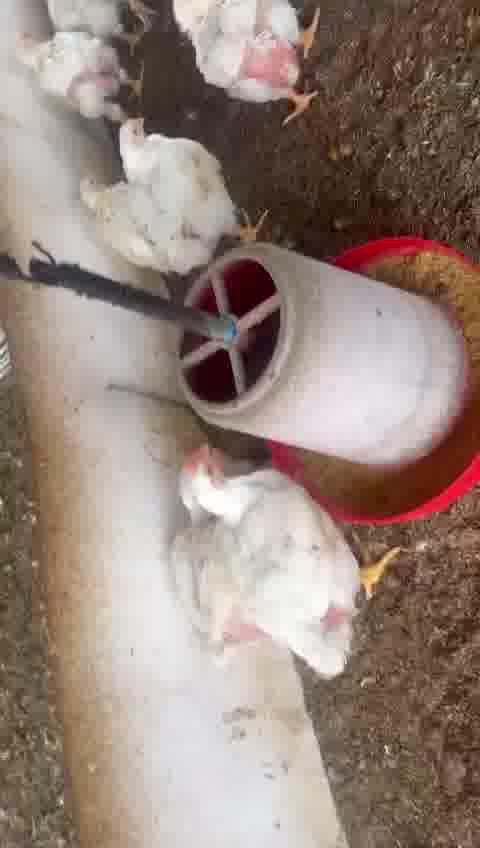Normal: (184, 450, 391, 629), (115, 115, 274, 238), (169, 4, 323, 114), (20, 39, 145, 118)
